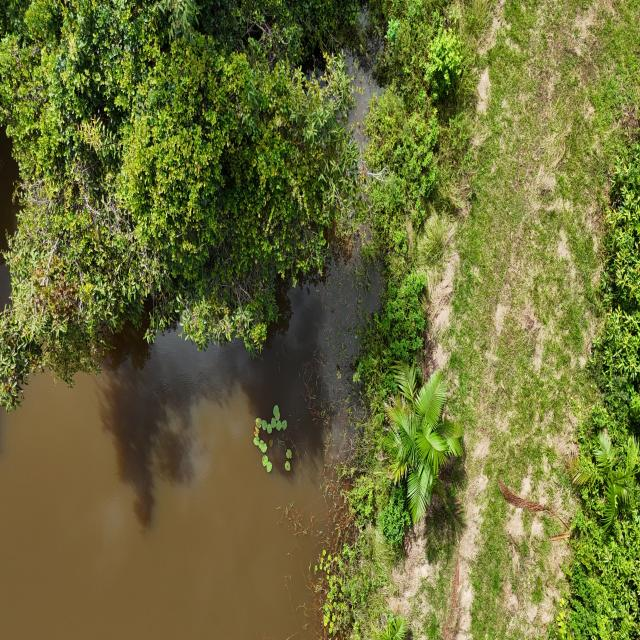vegetation: (382, 360, 464, 525)
